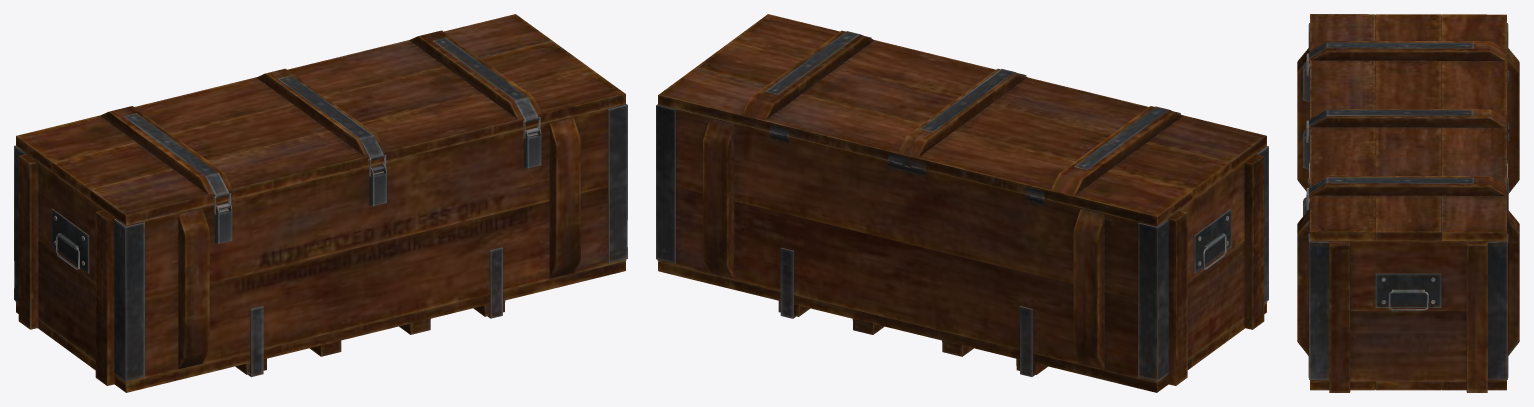
File: wooden_military_crate.glb
3 renders of one model, left to right at view 1: azimuth 30°, elevation 25°; view 2: azimuth 150°, elevation 25°; view 3: azimuth 270°, elevation 25°, orthographic. The views are drawn at different scales.
Parts seen in each view (by area): view 1: wooden_military_crate; view 2: wooden_military_crate; view 3: wooden_military_crate.
Boxes of the visible parts, x1,y1,x2,y2 form: wooden_military_crate: (14,14,627,392); wooden_military_crate: (656,14,1268,392); wooden_military_crate: (1297,14,1519,392).
Bounding box in the file's own units: 1.24 × 0.4642 × 0.5179.
Materials: 1 (1 with a texture image).
